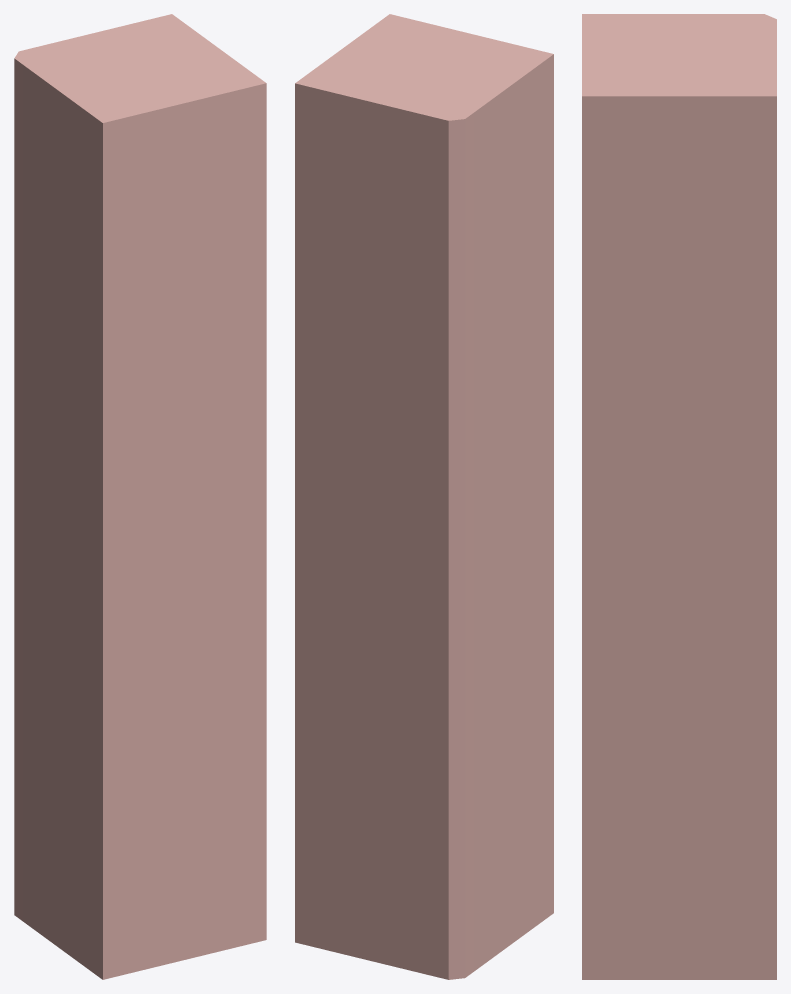
File: SM_1x1-corner-In.fbx
3 renders of one model, left to right at view 1: azimuth 30°, elevation 25°; view 2: azimuth 150°, elevation 25°; view 3: azimuth 270°, elevation 25°, orthographic. The views are drawn at different scales.
Visible parts, largest first — view 1: SM_1x1-corner-In; view 2: SM_1x1-corner-In; view 3: SM_1x1-corner-In.
Part boxes in pixels (<box>): SM_1x1-corner-In: <box>14,14,266,979</box>; SM_1x1-corner-In: <box>295,14,553,979</box>; SM_1x1-corner-In: <box>582,14,776,979</box>.
Bounding box in the file's own units: 80 × 400 × 80.
